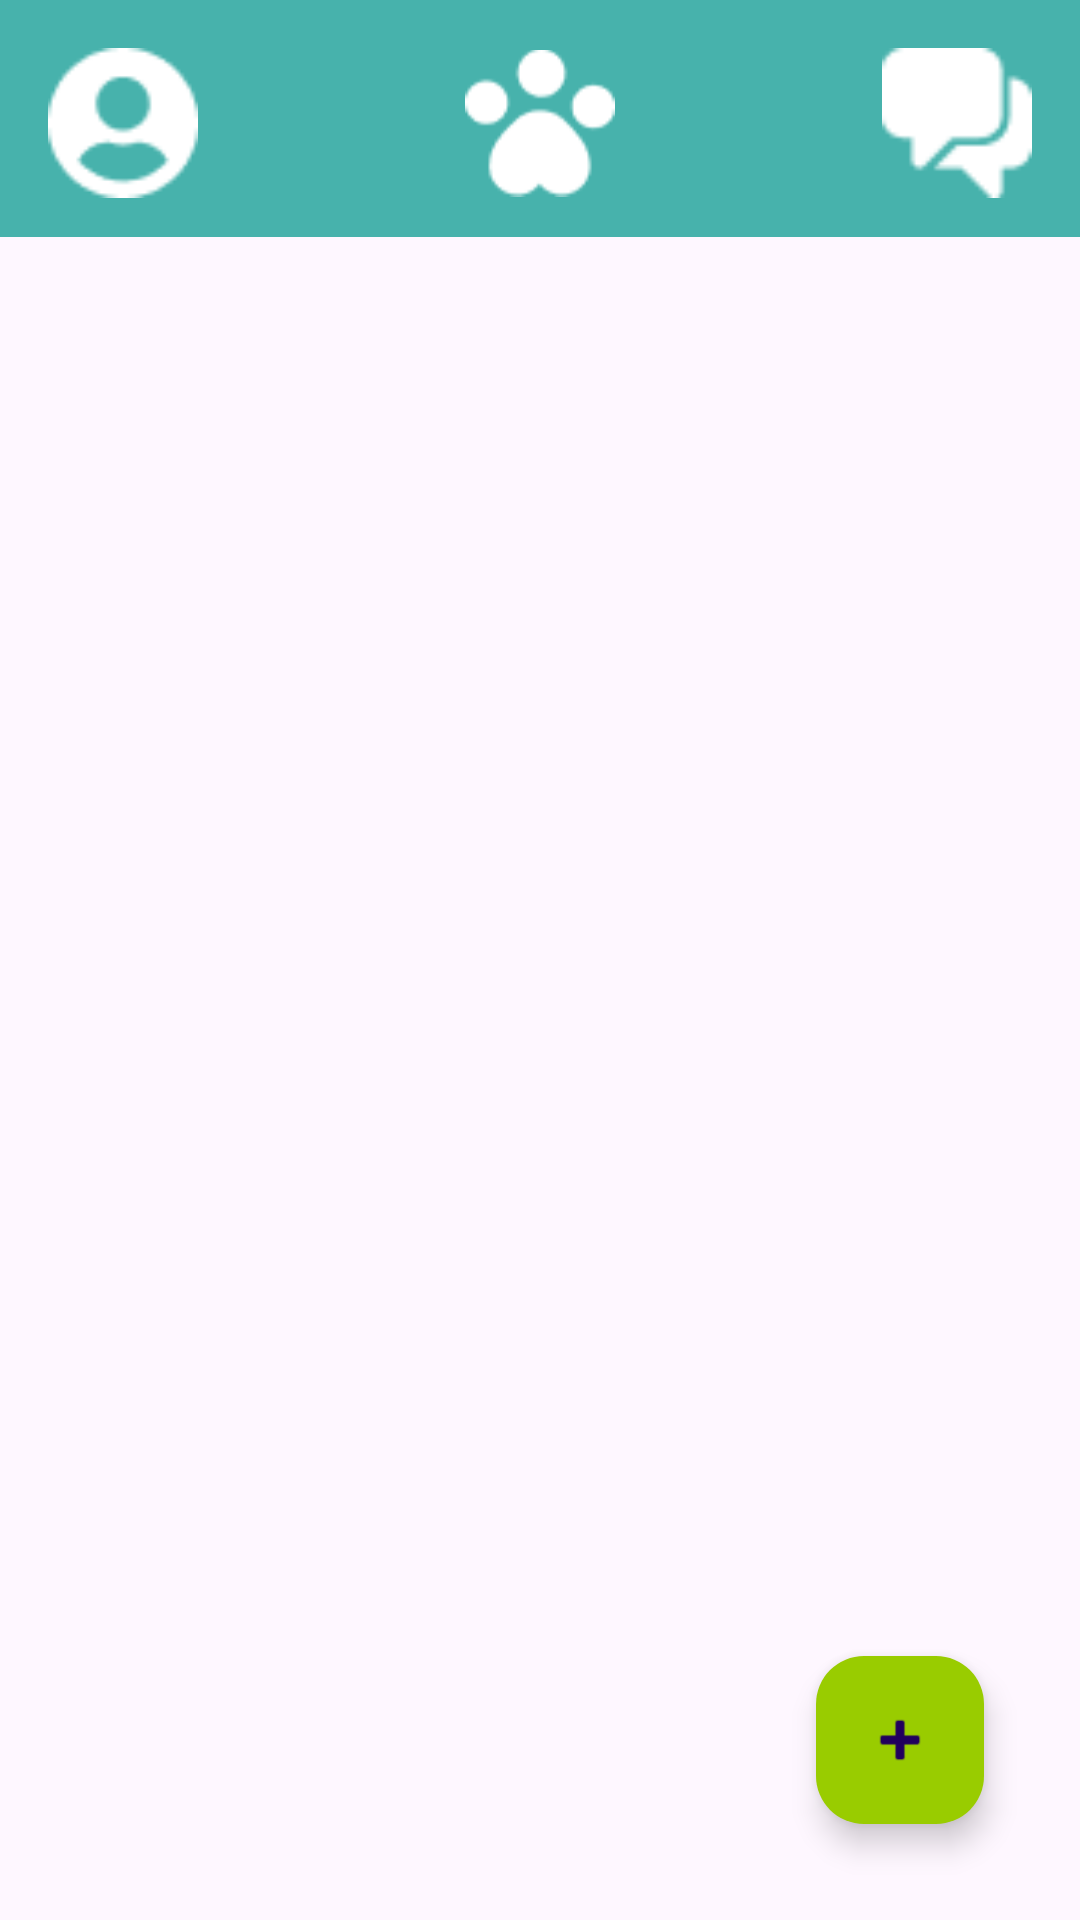

Screen size 1080w x 1920h. Icon name, then its box in pixels as {"left": x1, "top": y1, "right": x2, "bottom": y2}:
add: {"left": 816, "top": 1656, "right": 984, "bottom": 1824}
iconmessages: {"left": 882, "top": 48, "right": 1032, "bottom": 198}
iconpaw: {"left": 465, "top": 50, "right": 615, "bottom": 197}
iconuser: {"left": 48, "top": 48, "right": 198, "bottom": 198}
